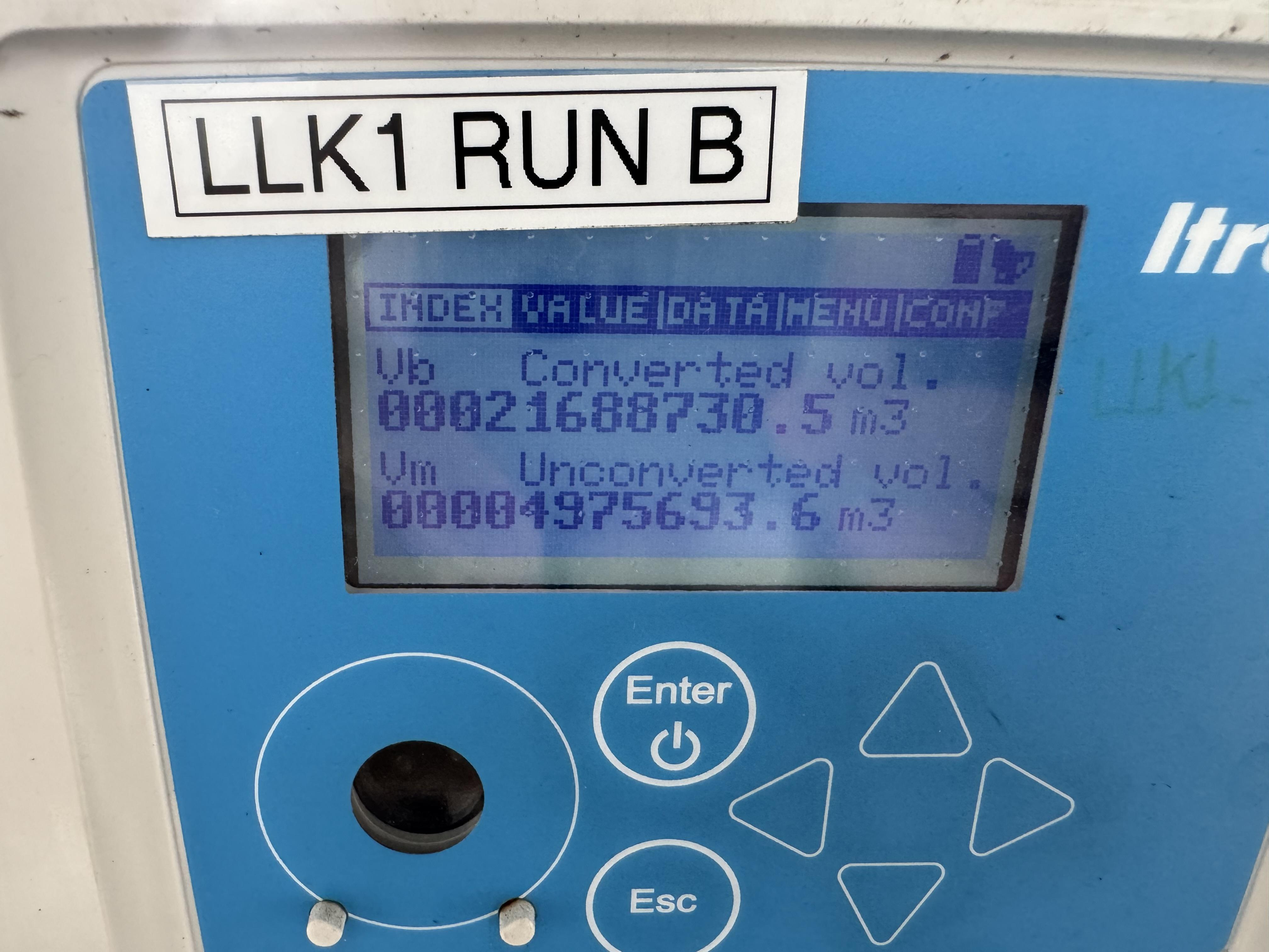digital_screen: (328, 205, 1091, 594)
